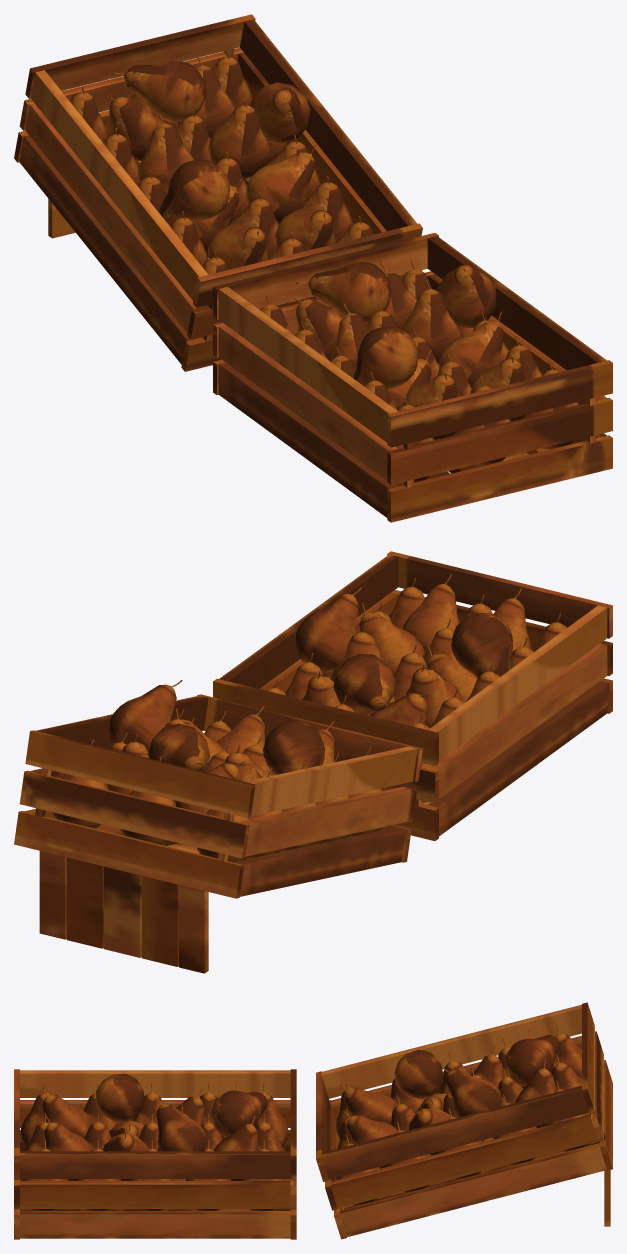
File: fruit crate_4.fbx
3 views of the same model, one above another, from view 1: azimuth 30°, elevation 25°; view 2: azimuth 150°, elevation 25°; view 3: azimuth 270°, elevation 25° (orthographic). The views are drawn at different scales.
Parts seen in each view (by area): view 1: Cube.001, Cube.019, Plane.659, Plane.024, Plane.660, Plane.025, Plane.657, Plane.656, Plane.661, Plane.026, Plane.022, Plane.021 (+20 smaller); view 2: Cube.019, Cube.001, Cube.024, Plane.026, Plane.025, Plane.024, Plane.661, Plane.660, Plane.659, Plane.023, Plane.022, Plane.017 (+14 smaller); view 3: Cube.019, Cube.001, Plane.660, Plane.659, Plane.025, Plane.024, Plane.026, Plane.661, Plane.654, Plane.019, Plane.023, Plane.658 (+24 smaller).
Boxes of the visible parts, left/top/right/bottom form: Cube.001: left=213, top=233, right=612, bottom=522; Cube.019: left=14, top=14, right=422, bottom=371; Plane.659: left=112, top=61, right=205, bottom=122; Plane.024: left=296, top=262, right=391, bottom=321; Plane.660: left=158, top=159, right=230, bottom=225; Plane.025: left=353, top=326, right=418, bottom=389; Plane.657: left=246, top=144, right=316, bottom=224; Plane.656: left=208, top=99, right=270, bottom=179; Plane.661: left=250, top=82, right=310, bottom=144; Plane.026: left=437, top=264, right=496, bottom=327; Plane.022: left=439, top=311, right=504, bottom=387; Plane.021: left=401, top=280, right=461, bottom=363; Cube.019: left=14, top=694, right=422, bottom=898; Cube.001: left=213, top=551, right=612, bottom=840; Cube.024: left=39, top=851, right=208, bottom=973; Plane.026: left=295, top=587, right=362, bottom=672; Plane.025: left=451, top=613, right=513, bottom=677; Plane.024: left=333, top=654, right=395, bottom=714; Plane.661: left=109, top=680, right=182, bottom=751; Plane.660: left=263, top=721, right=324, bottom=775; Plane.659: left=148, top=723, right=210, bottom=771; Plane.023: left=402, top=574, right=460, bottom=655; Plane.022: left=359, top=602, right=424, bottom=676; Plane.017: left=406, top=664, right=462, bottom=728; Cube.019: left=316, top=1002, right=612, bottom=1239; Cube.001: left=14, top=1069, right=296, bottom=1239; Plane.660: left=394, top=1050, right=443, bottom=1098; Plane.659: left=505, top=1033, right=560, bottom=1086; Plane.025: left=95, top=1073, right=143, bottom=1121; Plane.024: left=211, top=1090, right=268, bottom=1137; Plane.026: left=155, top=1097, right=206, bottom=1151; Plane.661: left=441, top=1066, right=502, bottom=1117; Plane.654: left=340, top=1084, right=397, bottom=1124; Plane.019: left=42, top=1087, right=92, bottom=1138; Plane.023: left=44, top=1115, right=92, bottom=1180; Plane.658: left=343, top=1110, right=398, bottom=1168.
Size of the model in its own units: 26.86 by 22.52 by 78.99.
